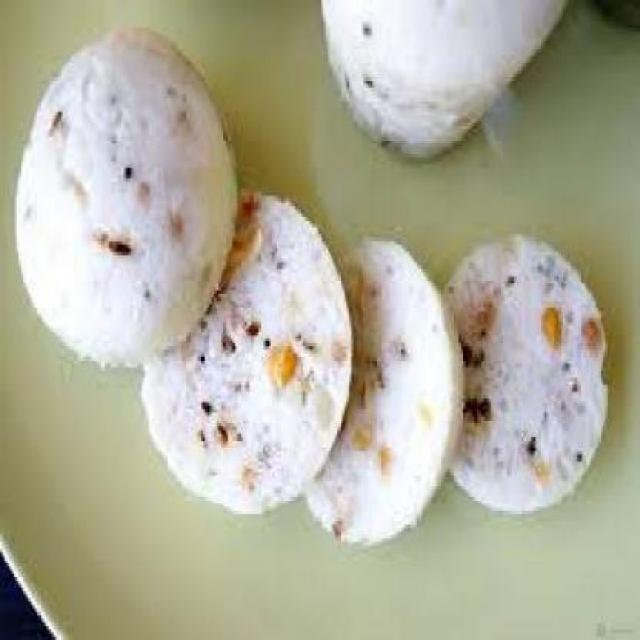idli: (16, 29, 236, 369), (140, 192, 352, 517), (304, 240, 464, 549), (443, 235, 608, 514)
